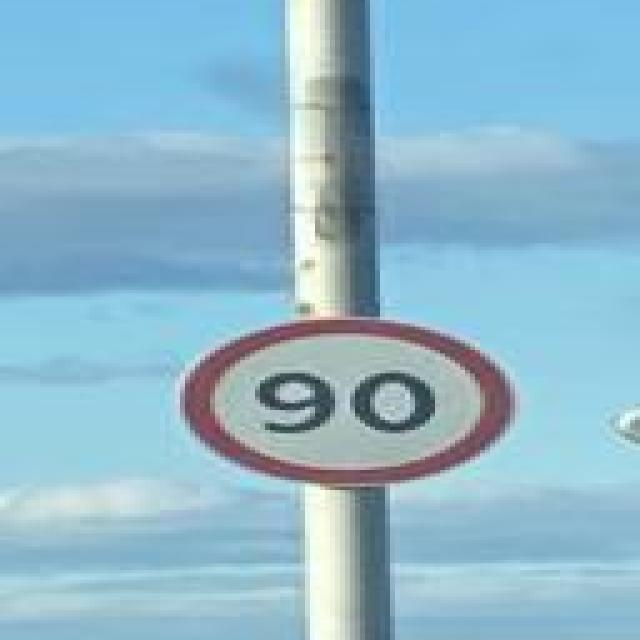Speed Limit -90-: (181, 317, 514, 487)
